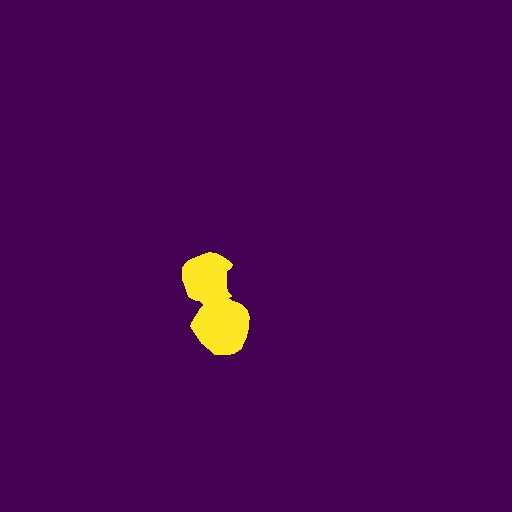Pituirity_tumour: (182, 252, 250, 355)
